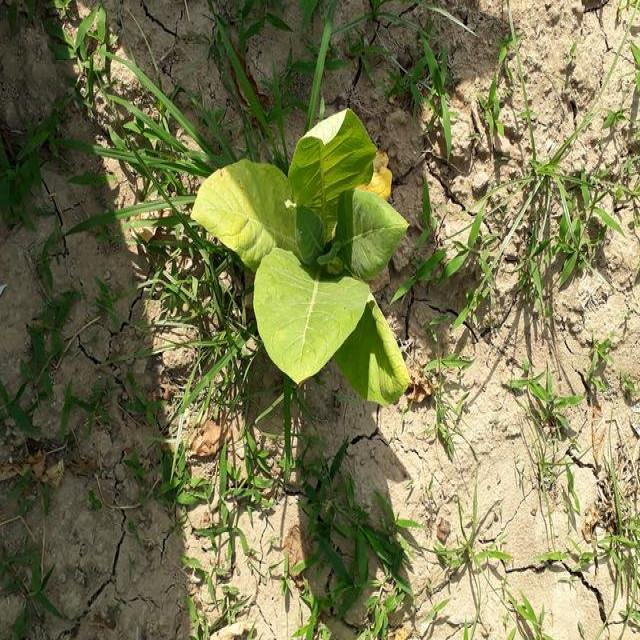crop: (193, 105, 410, 404)
